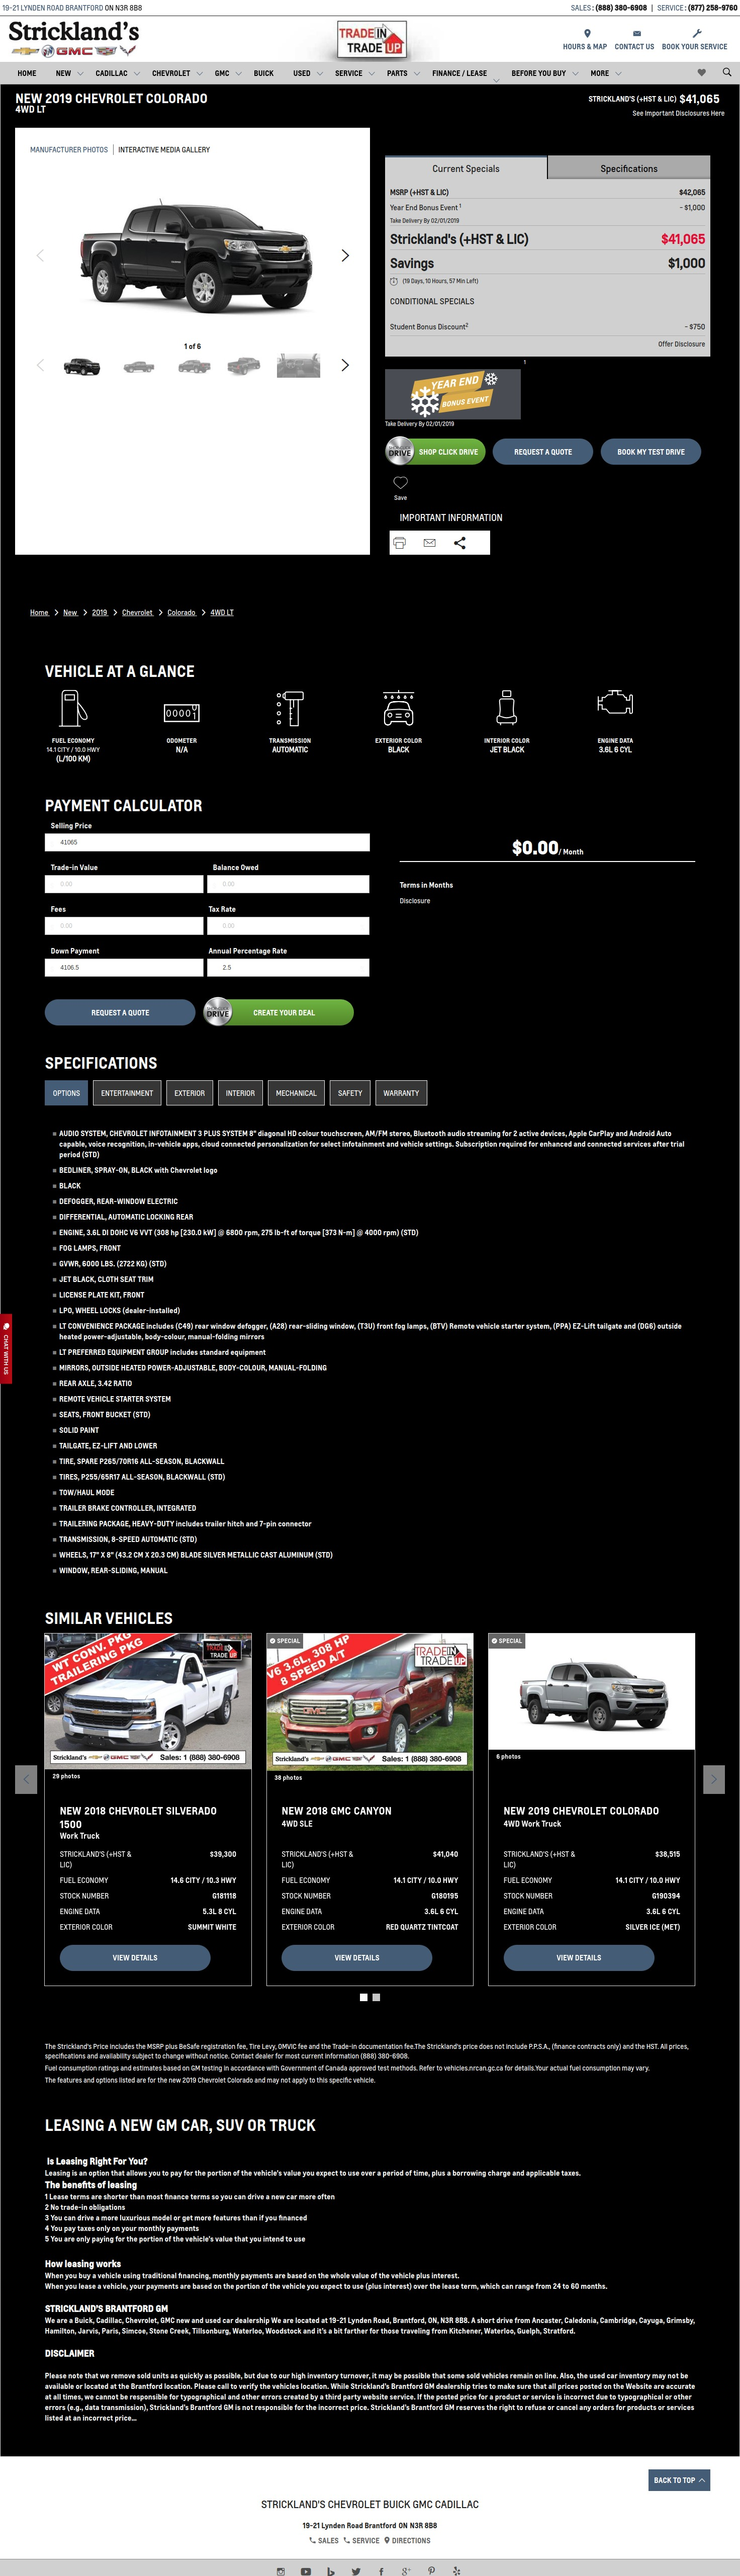car: (341, 358, 349, 373)
